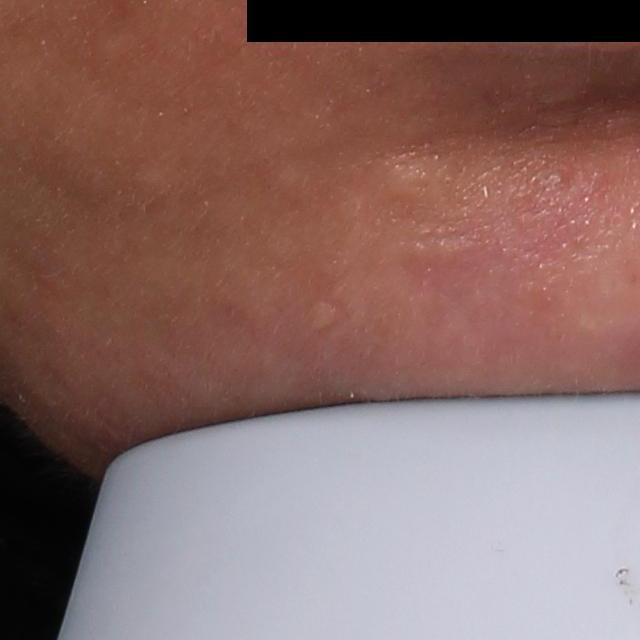hypertrophic_scar: (393, 227, 475, 265), (378, 158, 436, 200)
